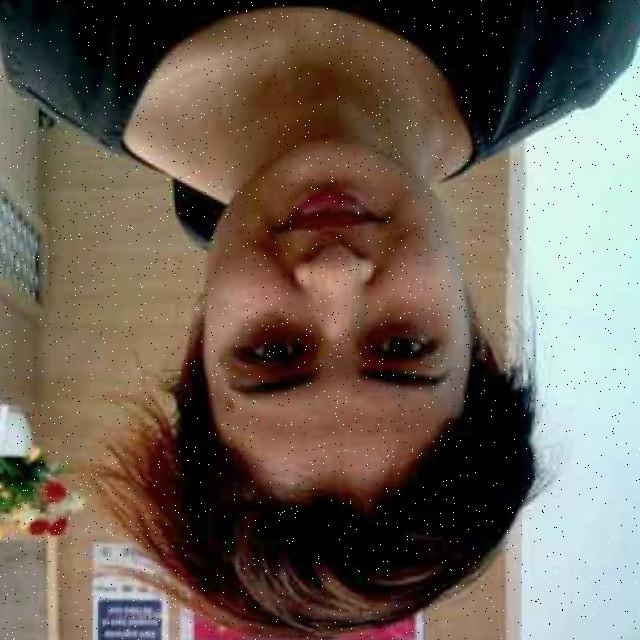puffy_eyes: (357, 316, 430, 364), (247, 318, 316, 346)
